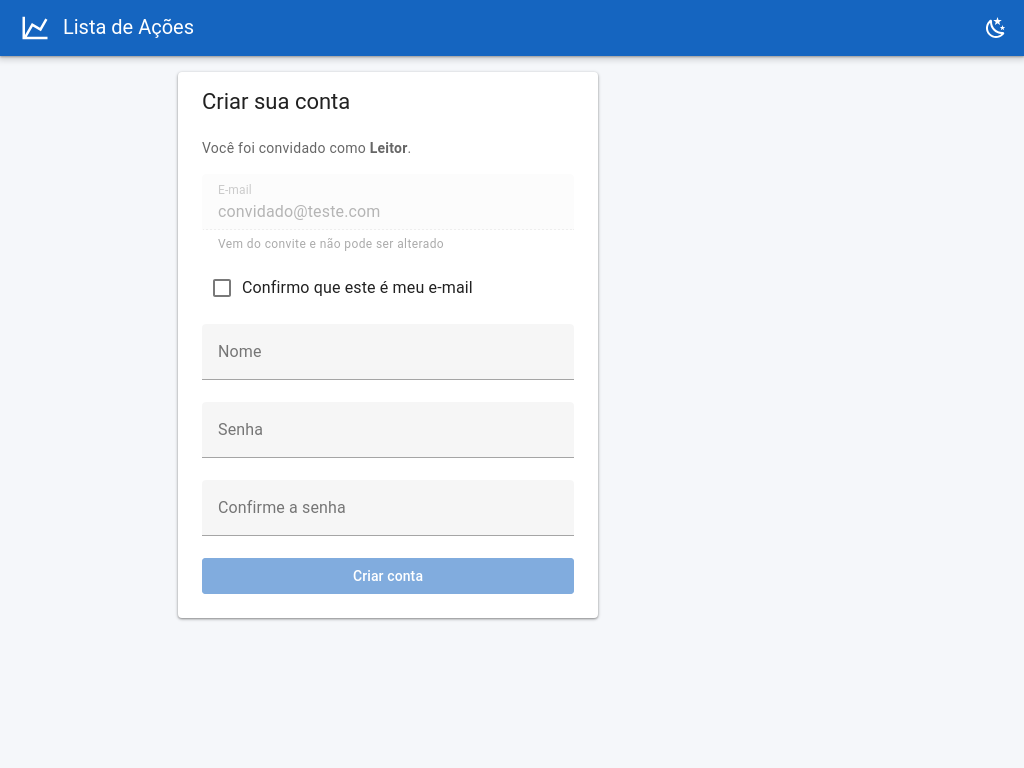
Test: cadastro por convite (/cadastro#c=) › o convite expira durante o preenchimento: mostra o aviso
Type " Convidado da Silva " into the field labelled "Nome". click: (388, 352)
box: [202,324,574,380]
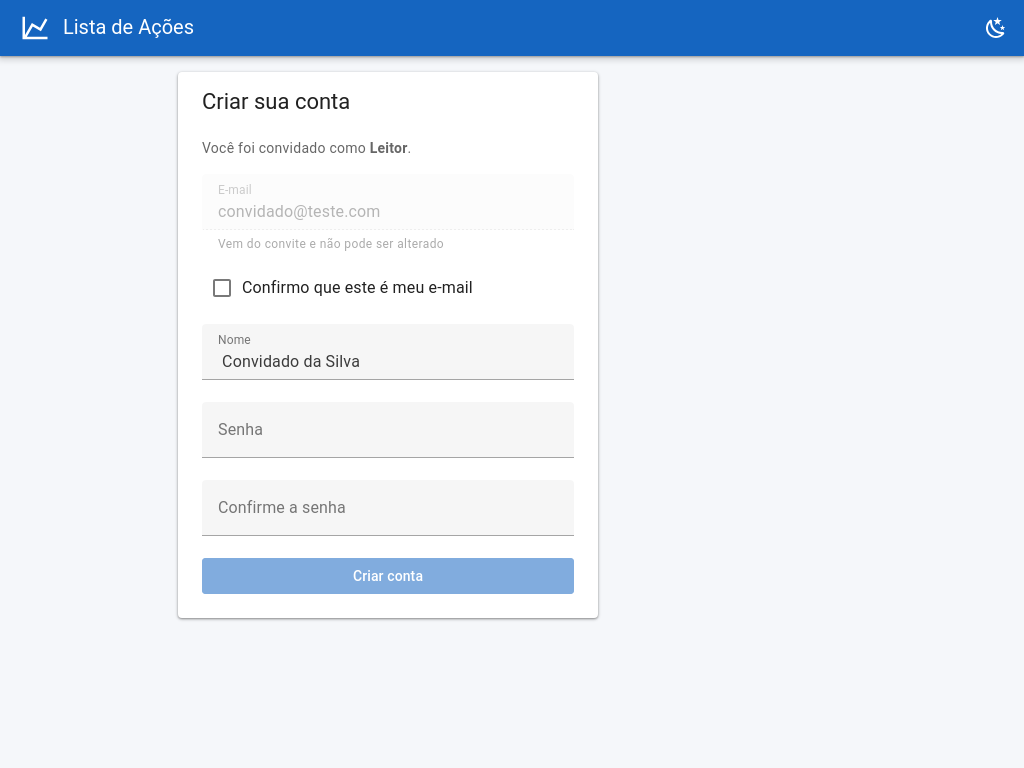
Type "senha-do-convidado-1" into the password field labelled "Senha". click: (388, 430)
box: [202,402,574,458]
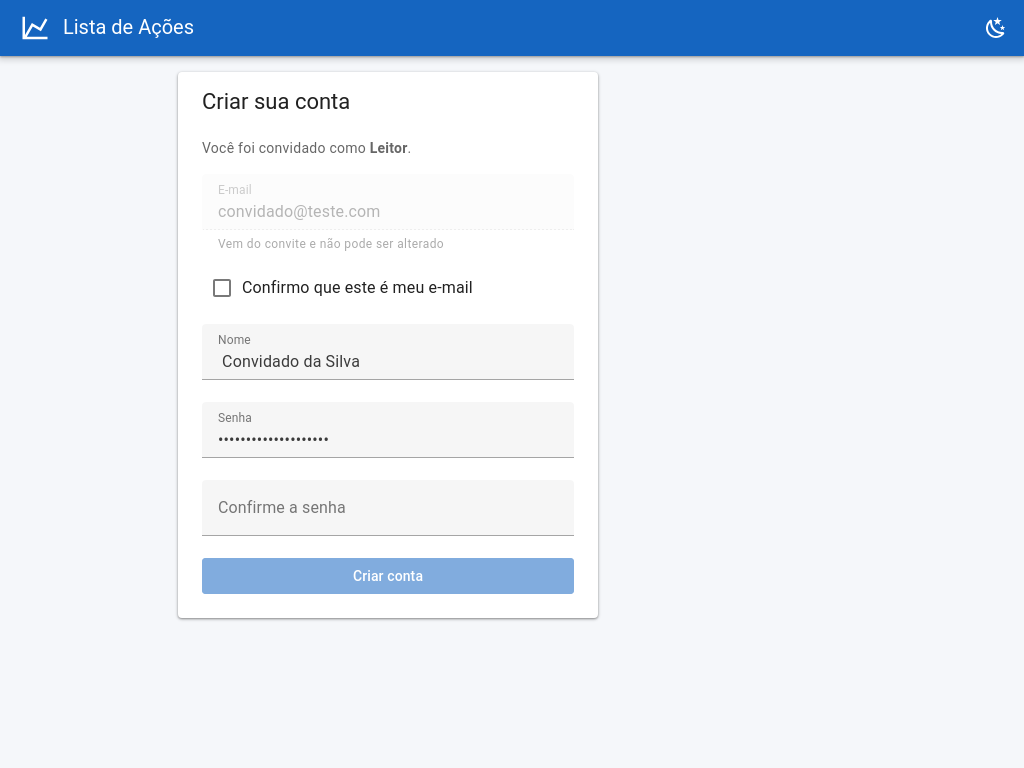
Type "senha-do-convidado-1" into the password field labelled "Confirme a senha". click: (388, 508)
box: [202,480,574,536]
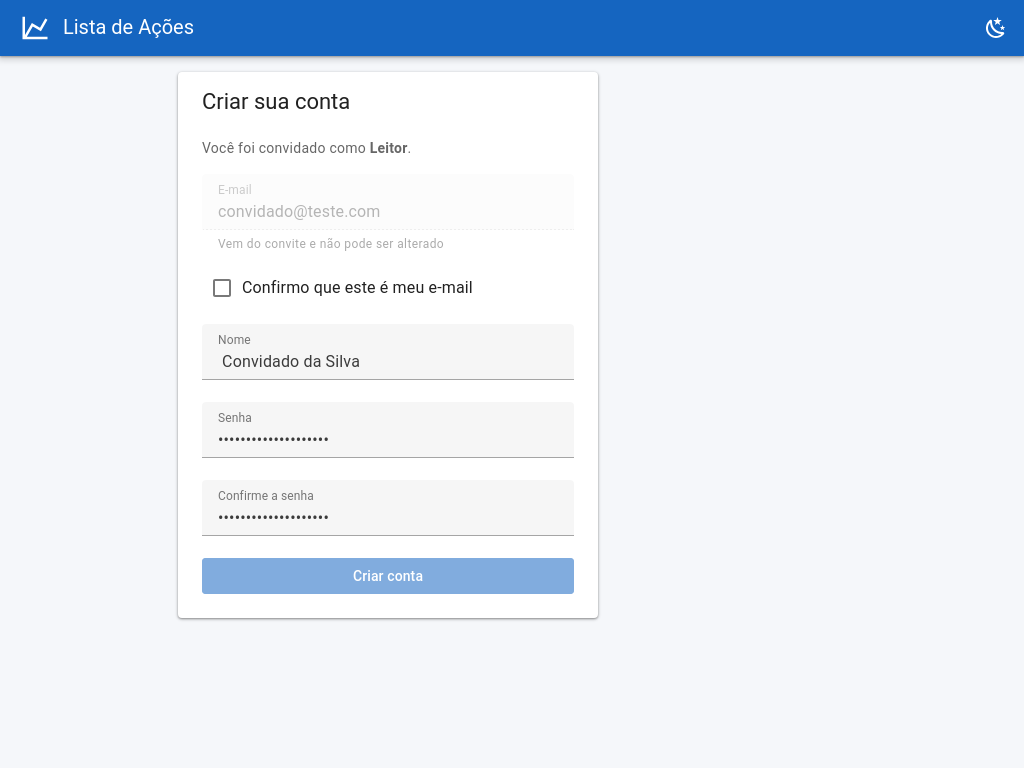
Click the checkbox labelled "Confirmo que este é meu e-mail". click: (357, 288)
box: [242,278,473,297]
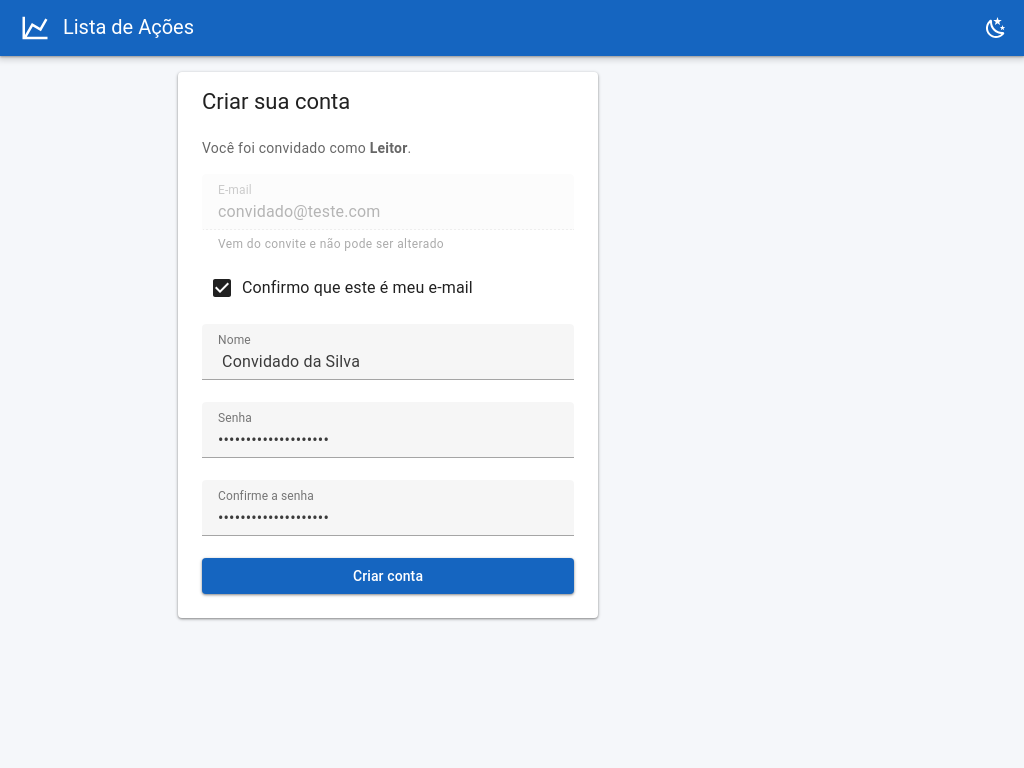
Submit the form with test id "form-cadastro", box [202,138,574,594]
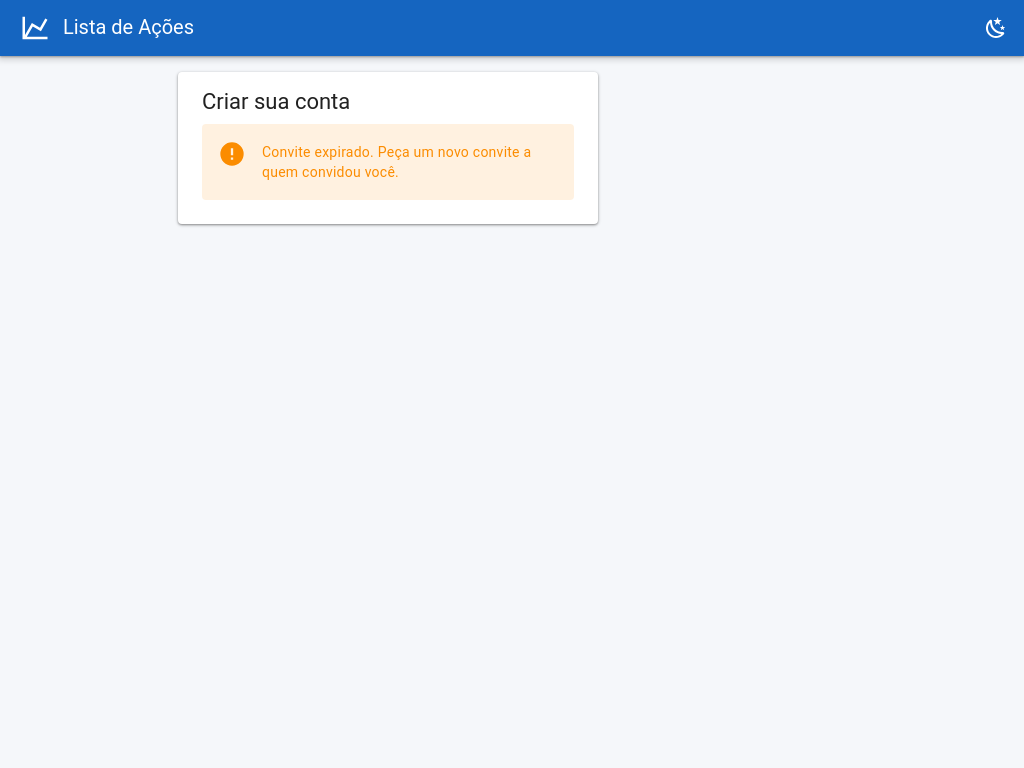
Check: the element with test id "convite-invalido" shows "expirado", box [262,144,531,180]
